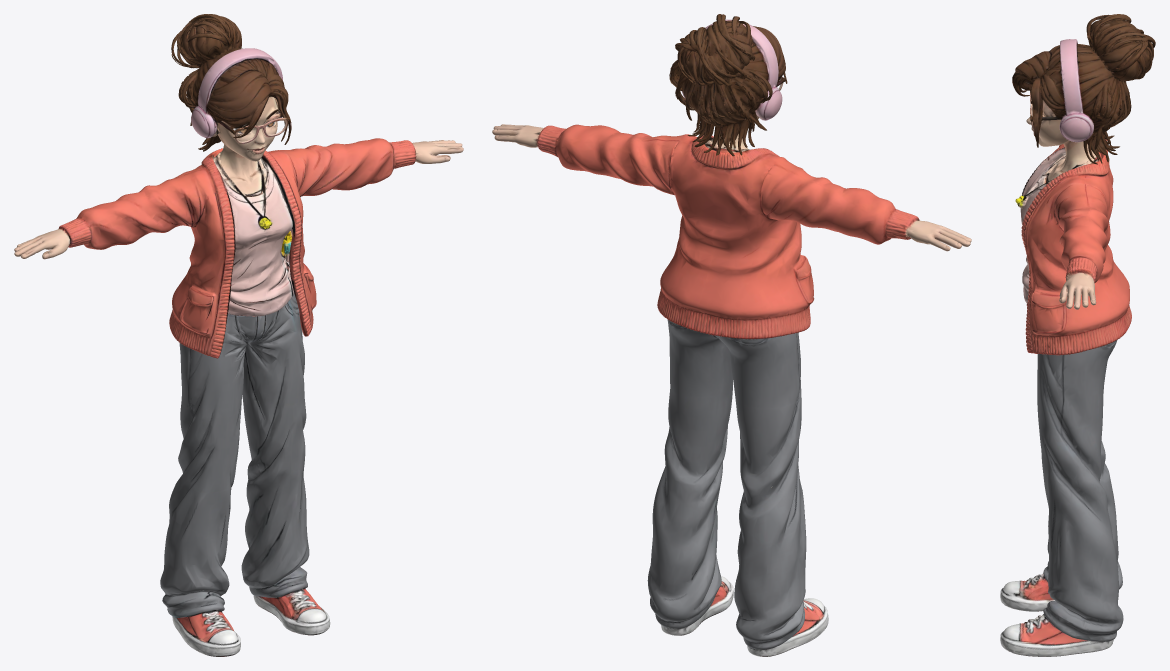
The model's file is gamer.glb.
The picture shows the model from 3 angles, left to right: view 1: azimuth 30°, elevation 25°; view 2: azimuth 150°, elevation 25°; view 3: azimuth 270°, elevation 25°; orthographic projection. The views are drawn at different scales.
Visible parts, largest first — view 1: tripo_node_26cda2ec-cc12-4ada-b9d4-4bf217422c1b; view 2: tripo_node_26cda2ec-cc12-4ada-b9d4-4bf217422c1b; view 3: tripo_node_26cda2ec-cc12-4ada-b9d4-4bf217422c1b.
Part boxes in pixels (x1,y1,x2,y2): tripo_node_26cda2ec-cc12-4ada-b9d4-4bf217422c1b: [14, 14, 463, 656]; tripo_node_26cda2ec-cc12-4ada-b9d4-4bf217422c1b: [492, 14, 971, 656]; tripo_node_26cda2ec-cc12-4ada-b9d4-4bf217422c1b: [1000, 14, 1155, 656].
Size of the model in its own units: 0.7702 by 0.9796 by 0.2276.
Materials: 1 (1 with a texture image).
